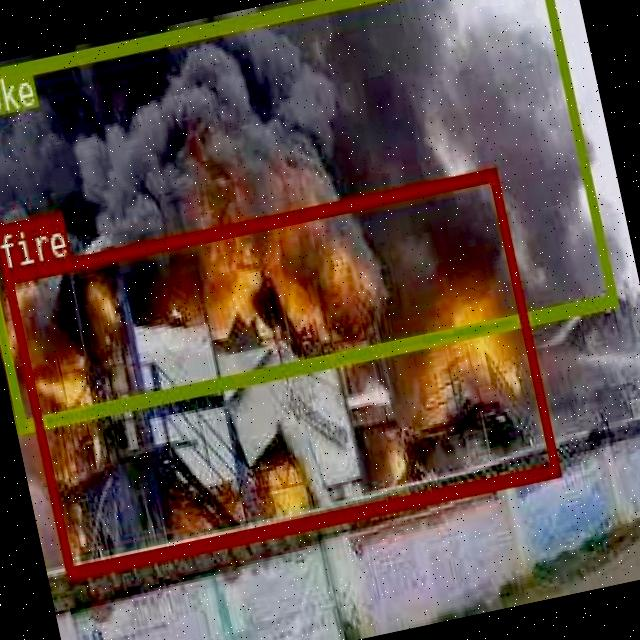fire: (1, 166, 559, 578)
smoke: (0, 0, 614, 429)
